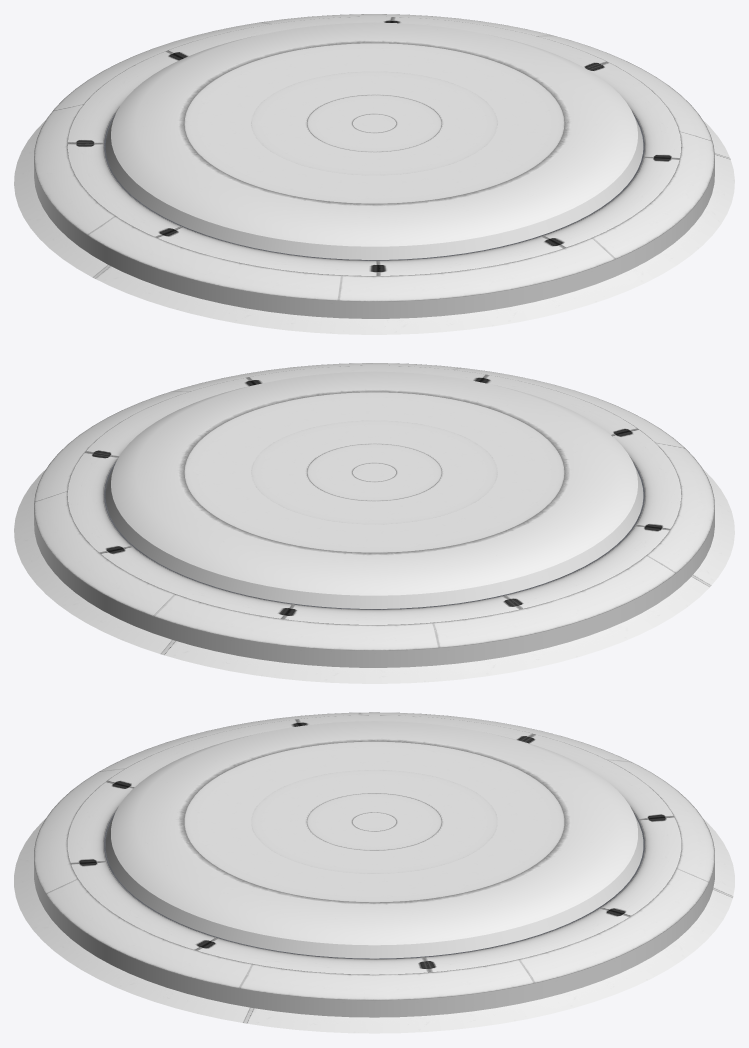
Rendered from scifi_ceiling.fbx.
The picture shows the model from 3 angles, top to bottom: view 1: azimuth 30°, elevation 25°; view 2: azimuth 150°, elevation 25°; view 3: azimuth 270°, elevation 25°; orthographic projection.
Visible parts, largest first — view 1: scifi_ceiling; view 2: scifi_ceiling; view 3: scifi_ceiling.
Part boxes in pixels (x1,y1,x2,y2): scifi_ceiling: [14, 14, 734, 334]; scifi_ceiling: [14, 363, 734, 683]; scifi_ceiling: [14, 712, 734, 1033].
Bounding box in the file's own units: 1144 × 103 × 1143.
